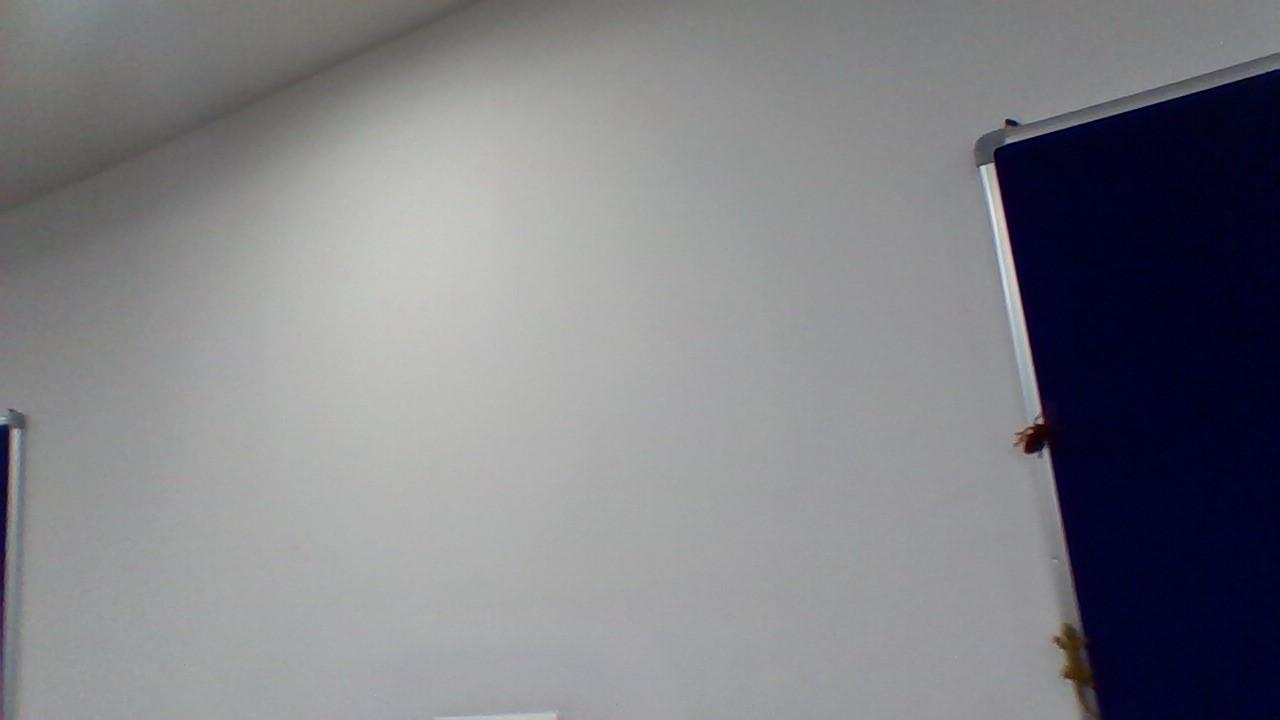cockroach: (1009, 406, 1059, 461)
lizard: (1059, 617, 1105, 718)
